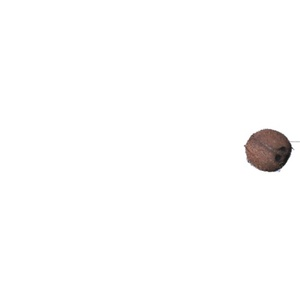coco: (247, 131, 292, 172)
